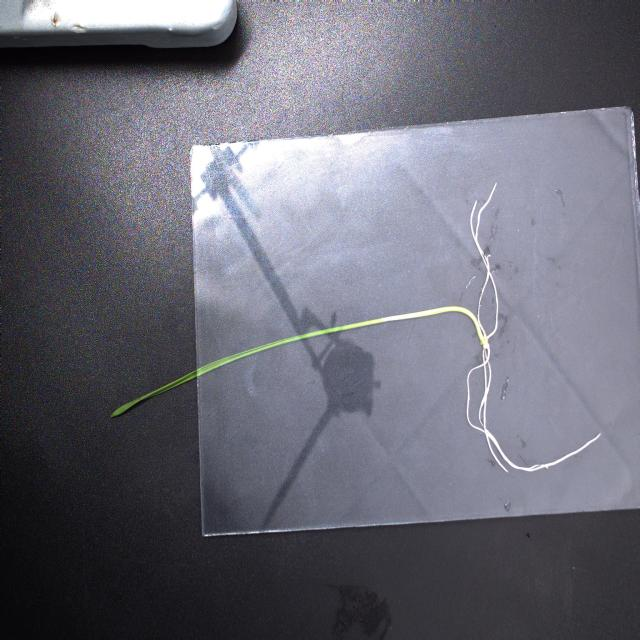leaf: (128, 371, 199, 404)
root: (466, 183, 599, 472)
